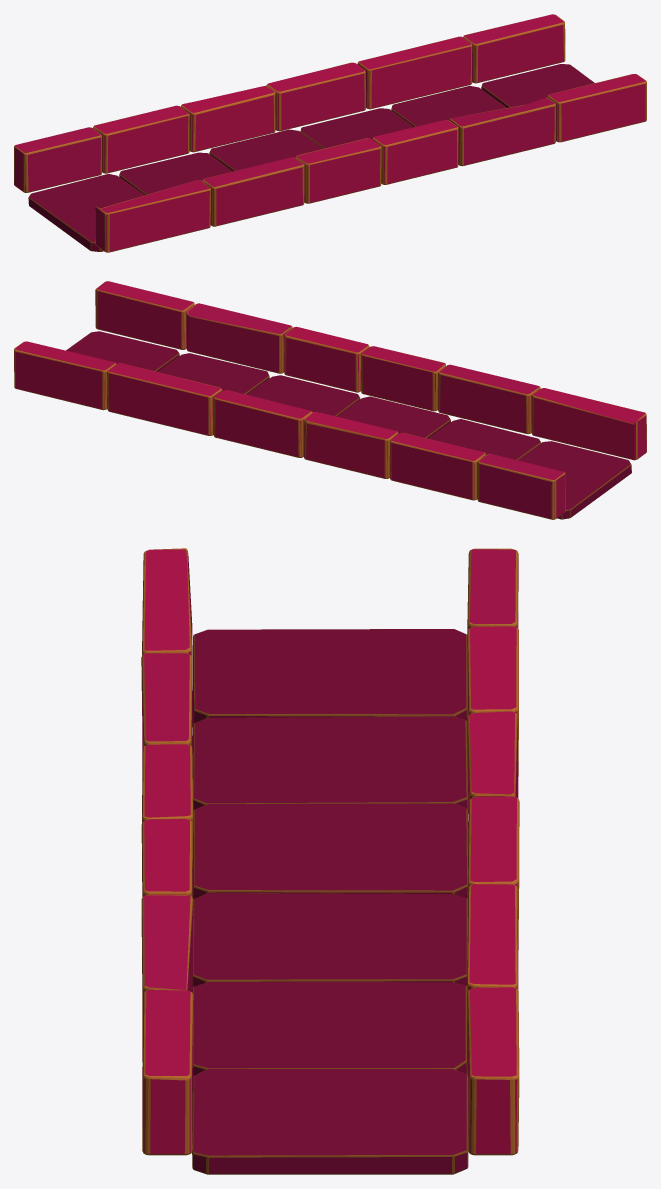
Rendered from SM_RV_Rill.fbx.
3 renders of one model, top to bottom at view 1: azimuth 30°, elevation 25°; view 2: azimuth 150°, elevation 25°; view 3: azimuth 270°, elevation 25°, orthographic. The views are drawn at different scales.
Parts seen in each view (by area): view 1: SM_RV_Rill; view 2: SM_RV_Rill; view 3: SM_RV_Rill.
Part boxes in pixels (bbox=[...]): SM_RV_Rill: bbox=[14, 14, 646, 252]; SM_RV_Rill: bbox=[14, 281, 646, 519]; SM_RV_Rill: bbox=[141, 548, 519, 1174].
Size of what is drawn, in the model's own units: 181 by 600 by 52.49.
